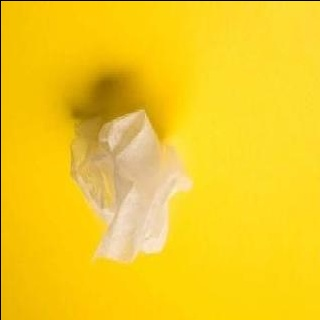8/可回收垃圾/纸: (69, 108, 191, 257)
